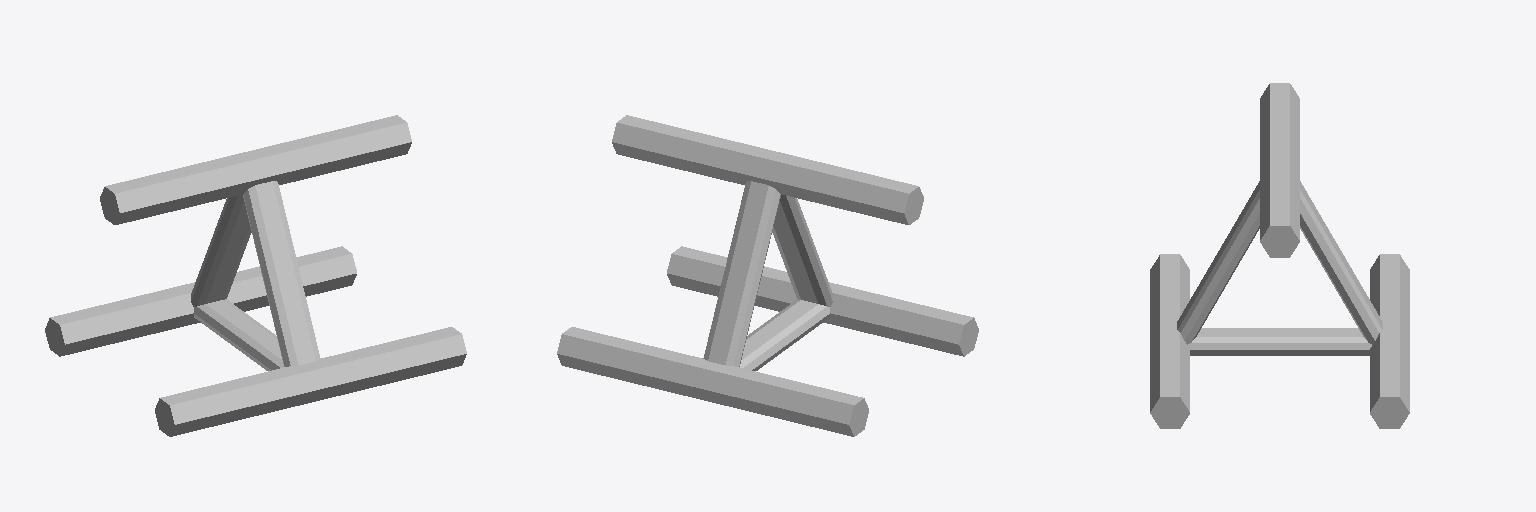
Rendered from gantry1_middlepart.obj.
The picture shows the model from 3 angles: view 1: azimuth 30°, elevation 25°; view 2: azimuth 150°, elevation 25°; view 3: azimuth 270°, elevation 25°; orthographic projection.
Parts seen in each view (by area): view 1: 贝塞尔曲线.004, 贝塞尔曲线.003, 贝塞尔曲线.002, 贝塞尔曲线.007, 贝塞尔曲线.006, 贝塞尔曲线.005; view 2: 贝塞尔曲线.002, 贝塞尔曲线.003, 贝塞尔曲线.004, 贝塞尔曲线.006, 贝塞尔曲线.007, 贝塞尔曲线.005; view 3: 贝塞尔曲线.003, 贝塞尔曲线.002, 贝塞尔曲线.004, 贝塞尔曲线.005, 贝塞尔曲线.006, 贝塞尔曲线.007.
Part boxes in pixels (left/top/right/bottom): 贝塞尔曲线.004: left=155, top=327, right=466, bottom=436; 贝塞尔曲线.003: left=100, top=115, right=411, bottom=224; 贝塞尔曲线.002: left=45, top=246, right=356, bottom=356; 贝塞尔曲线.007: left=243, top=181, right=320, bottom=366; 贝塞尔曲线.006: left=191, top=194, right=251, bottom=306; 贝塞尔曲线.005: left=194, top=299, right=283, bottom=370; 贝塞尔曲线.002: left=557, top=327, right=868, bottom=436; 贝塞尔曲线.003: left=612, top=115, right=923, bottom=224; 贝塞尔曲线.004: left=667, top=246, right=978, bottom=356; 贝塞尔曲线.006: left=703, top=181, right=780, bottom=366; 贝塞尔曲线.007: left=772, top=194, right=832, bottom=306; 贝塞尔曲线.005: left=740, top=299, right=829, bottom=370; 贝塞尔曲线.003: left=1260, top=83, right=1299, bottom=257; 贝塞尔曲线.002: left=1370, top=254, right=1409, bottom=428; 贝塞尔曲线.004: left=1150, top=254, right=1189, bottom=428; 贝塞尔曲线.005: left=1188, top=328, right=1371, bottom=355; 贝塞尔曲线.006: left=1300, top=181, right=1382, bottom=344; 贝塞尔曲线.007: left=1177, top=181, right=1259, bottom=344.
Size of the model in its own units: 1 by 0.6639 by 0.77.